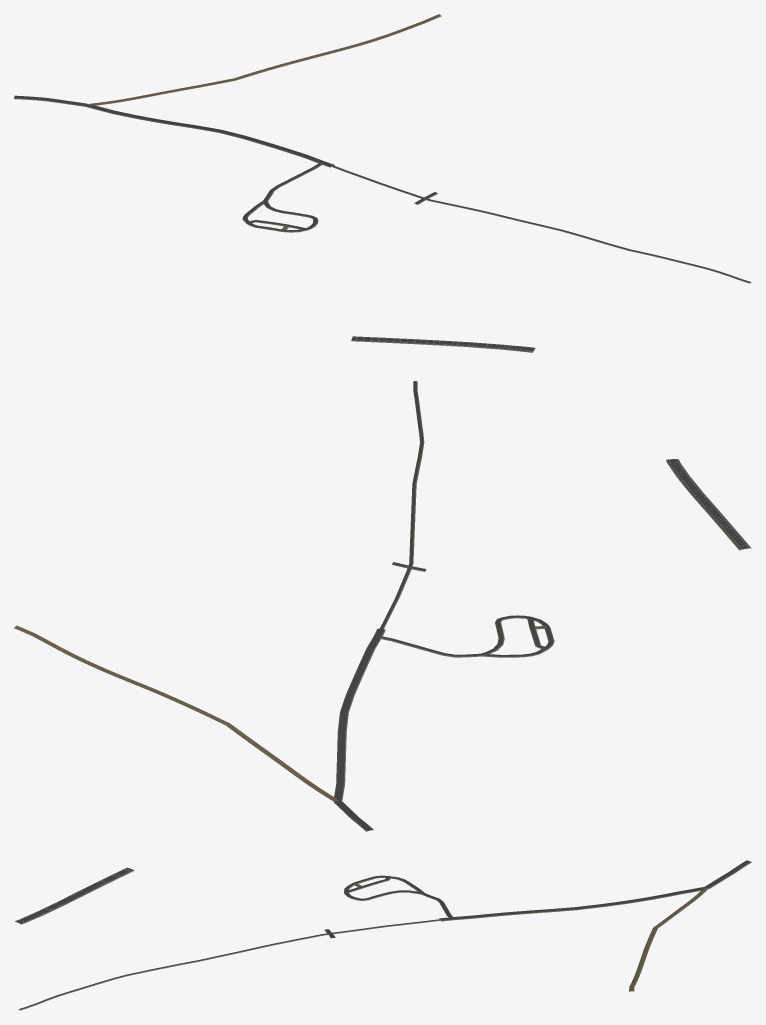
3 renders of one model, top to bottom at view 1: azimuth 30°, elevation 25°; view 2: azimuth 150°, elevation 25°; view 3: azimuth 270°, elevation 25°, orthographic. The views are drawn at different scales.
Parts seen in each view (by area): view 1: roads; view 2: roads; view 3: roads.
Boxes of the visible parts, left/top/right/bottom form: roads: left=14, top=14, right=751, bottom=352; roads: left=14, top=381, right=751, bottom=831; roads: left=15, top=860, right=751, bottom=1010.
Size of the model in its own units: 400 by 45.33 by 742.
